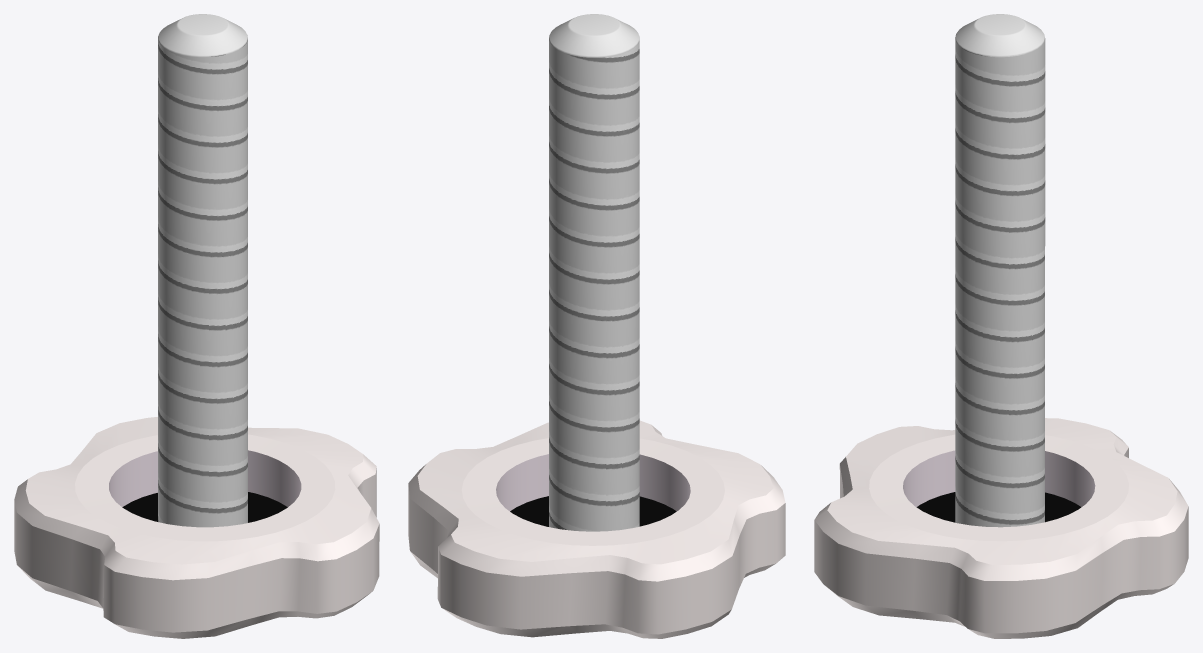
File: holder 1.fbx
3 views of the same model, side by side, from view 1: azimuth 30°, elevation 25°; view 2: azimuth 150°, elevation 25°; view 3: azimuth 270°, elevation 25° (orthographic).
Parts seen in each view (by area): view 1: Circle.002, Renderer_02.026; view 2: Circle.002, Renderer_02.026; view 3: Circle.002, Renderer_02.026.
Part boxes in pixels (x1=…): Circle.002: x1=14, y1=417, x2=379, y2=638; Renderer_02.026: x1=158, y1=14, x2=247, y2=527; Circle.002: x1=408, y1=420, x2=785, y2=638; Renderer_02.026: x1=549, y1=14, x2=639, y2=531; Circle.002: x1=814, y1=418, x2=1188, y2=638; Renderer_02.026: x1=955, y1=14, x2=1045, y2=527.
Size of the model in its own units: 2.76 by 4.45 by 2.81.
